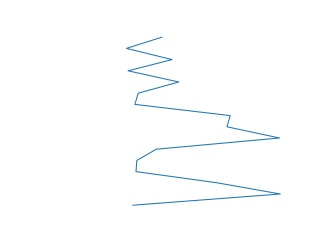majorRiverBedLagDeposit: (124, 35, 283, 209)
